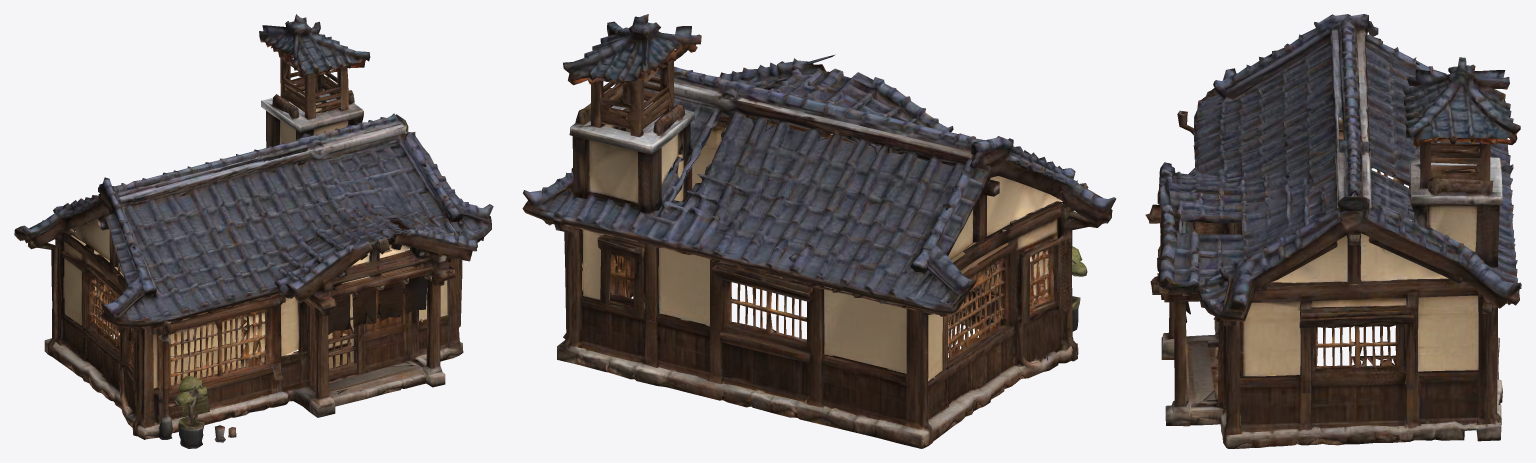
Rendered from candidate.glb.
3 renders of one model, left to right at view 1: azimuth 30°, elevation 25°; view 2: azimuth 150°, elevation 25°; view 3: azimuth 270°, elevation 25°, orthographic. The views are drawn at different scales.
Parts seen in each view (by area): view 1: compact__tower_1__native_mobile; view 2: compact__tower_1__native_mobile; view 3: compact__tower_1__native_mobile.
Boxes of the visible parts, x1,y1,x2,y2 form: compact__tower_1__native_mobile: [14, 14, 493, 448]; compact__tower_1__native_mobile: [522, 14, 1116, 448]; compact__tower_1__native_mobile: [1145, 14, 1521, 448].
Bounding box in the file's own units: 1 × 0.7044 × 0.6761.
Materials: 1 (1 with a texture image).
